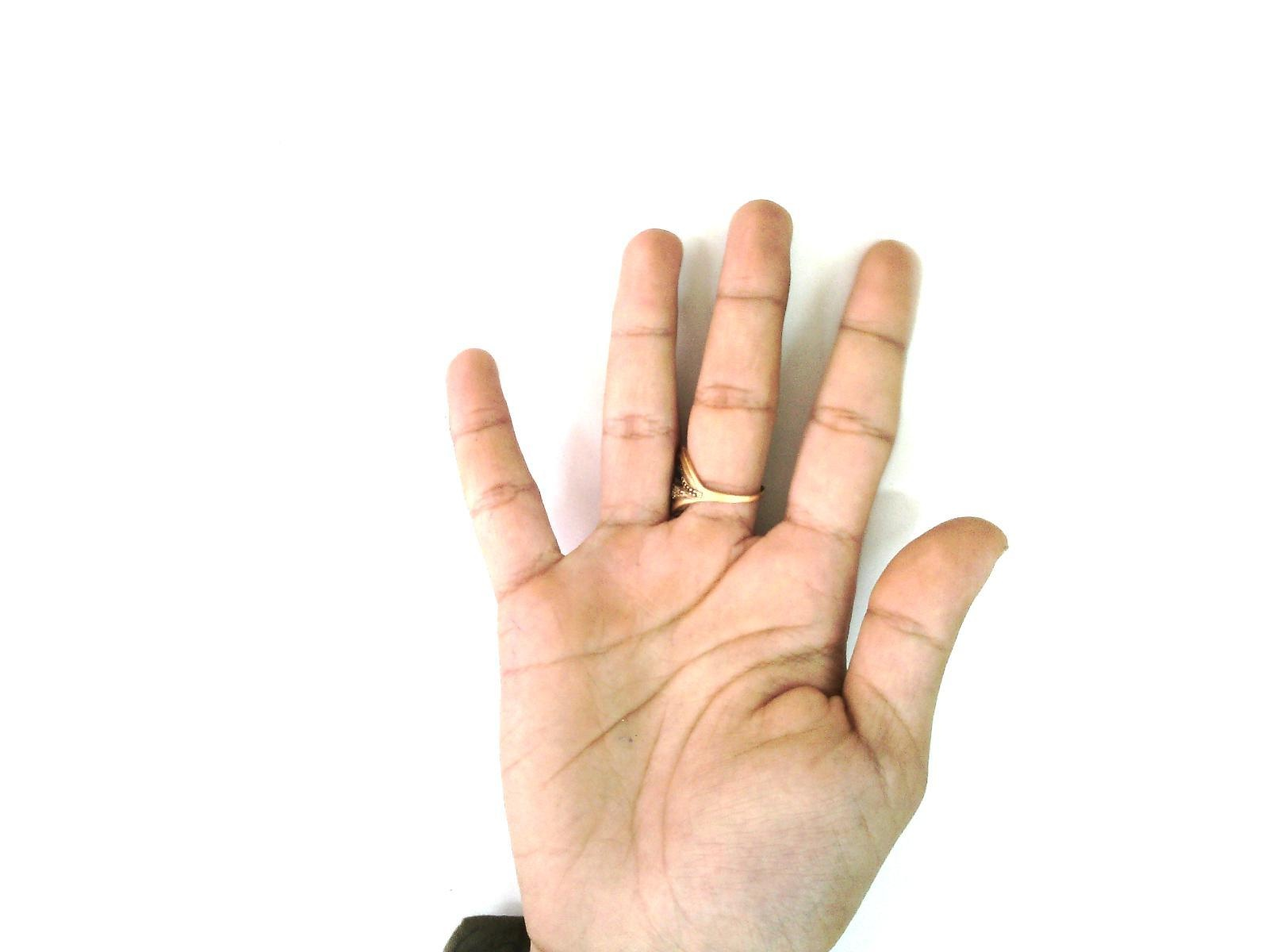open_palm: (441, 198, 1011, 952)
